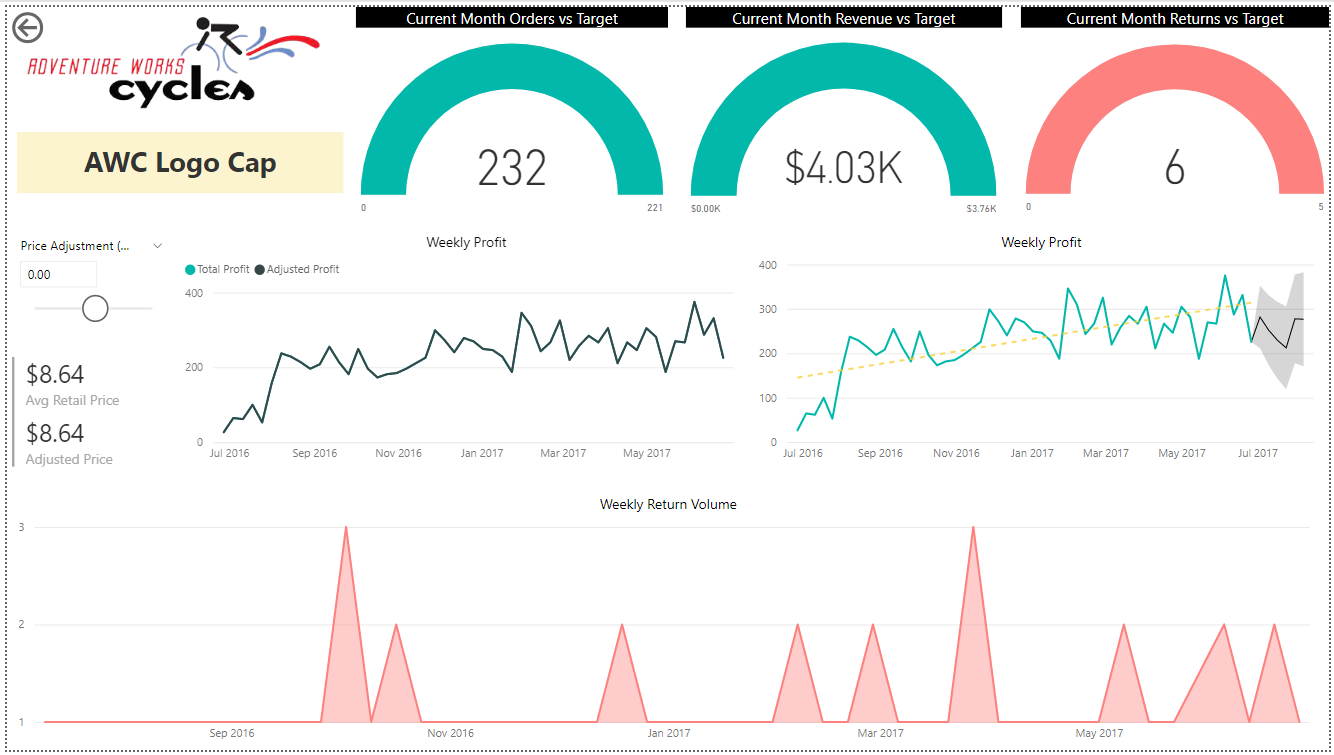

The page's visual inventory and layout, read from the dashboard file:
{"tool":"powerbi","page":{"name":"Product Detail","canvas":[1280,720],"ordinal":1},"visuals":[{"type":"image","box":[0,0,325.5,108.9],"z":0},{"type":"lineChart","title":"Weekly Profit","fields":{"Y":["AW_Sales.Total Profit"],"Category":["AW_Calendar_Lookup.Start of Week"]},"box":[722.4,217.8,557.8,231.1],"z":1000},{"type":"stackedAreaChart","title":"Weekly Return Volume","fields":{"Category":["AW_Calendar_Lookup.Start of Week"],"Y":["AW_Returns.Total Returns"]},"box":[0,471.9,1280.3,248.1],"z":2000},{"type":"gauge","title":"Current Month Returns vs Target","fields":{"Y":["AW_Returns.Total Returns"],"MaxValue":["AW_Sales.Prev Month Returns"]},"box":[981.4,0,298.9,217.8],"z":3000},{"type":"gauge","title":"Current Month Orders vs Target","fields":{"Y":["AW_Sales.Total Orders"],"MaxValue":["AW_Sales.Order Target"]},"box":[337.6,0,302.5,217.8],"z":4000},{"type":"gauge","title":"Current Month Revenue vs Target","fields":{"Y":["AW_Sales.Total Revenue"],"MaxValue":["AW_Sales.Revenue Target"]},"box":[657.1,0,306.2,217.8],"z":5000},{"type":"card","fields":{"Values":["Min(AW_Product_Lookup.ProductName)"]},"box":[9.6,120.9,315.9,59.1],"z":6000},{"type":"actionButton","box":[0,0,100,40],"z":7000},{"type":"slicer","fields":{"Values":["Price Adjustment (%).Price Adjustment (%)"]},"box":[0,217.8,163.4,116.2],"z":8000},{"type":"multiRowCard","fields":{"Values":["AW_Product_Lookup.Avg Retail Price","AW_Product_Lookup.Adjusted Price"]},"box":[0,334,167,123.4],"z":9000},{"type":"lineChart","title":"Weekly Profit","fields":{"Category":["AW_Calendar_Lookup.Start of Week"],"Y":["AW_Sales.Total Profit","AW_Sales.Adjusted Profit"]},"box":[167,217.8,555.4,231.1],"z":10000}]}

Visuals, with their boxes in screenshot pixels (x1, y1, x2, y2), scaled from the page's 1280x720 canvas onto the 1334x755 screenshot:
image: bbox=[0, 0, 339, 114]
"Weekly Profit" lineChart: bbox=[753, 228, 1333, 471]
"Weekly Return Volume" stackedAreaChart: bbox=[0, 495, 1333, 754]
"Current Month Returns vs Target" gauge: bbox=[1023, 0, 1333, 228]
"Current Month Orders vs Target" gauge: bbox=[352, 0, 667, 228]
"Current Month Revenue vs Target" gauge: bbox=[685, 0, 1004, 228]
card - Min(AW_Product_Lookup.ProductName): bbox=[10, 127, 339, 189]
actionButton: bbox=[0, 0, 104, 42]
slicer - Price Adjustment (%).Price Adjustment (%): bbox=[0, 228, 170, 350]
multiRowCard - AW_Product_Lookup.Avg Retail Price x AW_Product_Lookup.Adjusted Price: bbox=[0, 350, 174, 480]
"Weekly Profit" lineChart: bbox=[174, 228, 753, 471]
